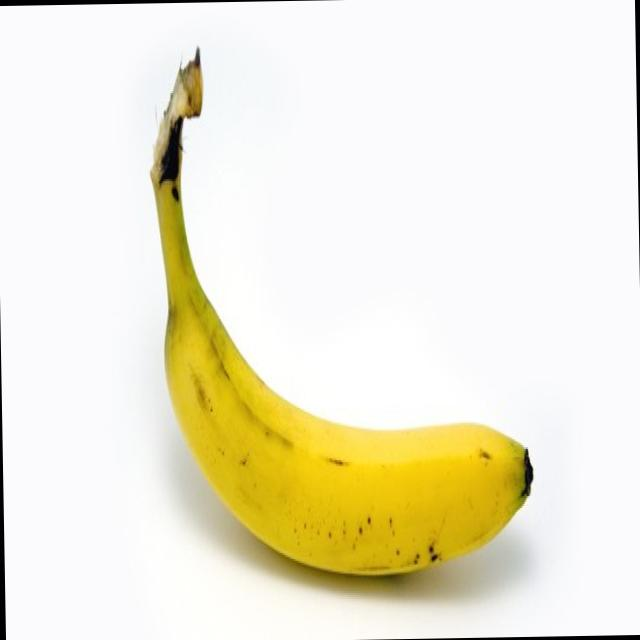banana: (149, 264, 543, 614)
